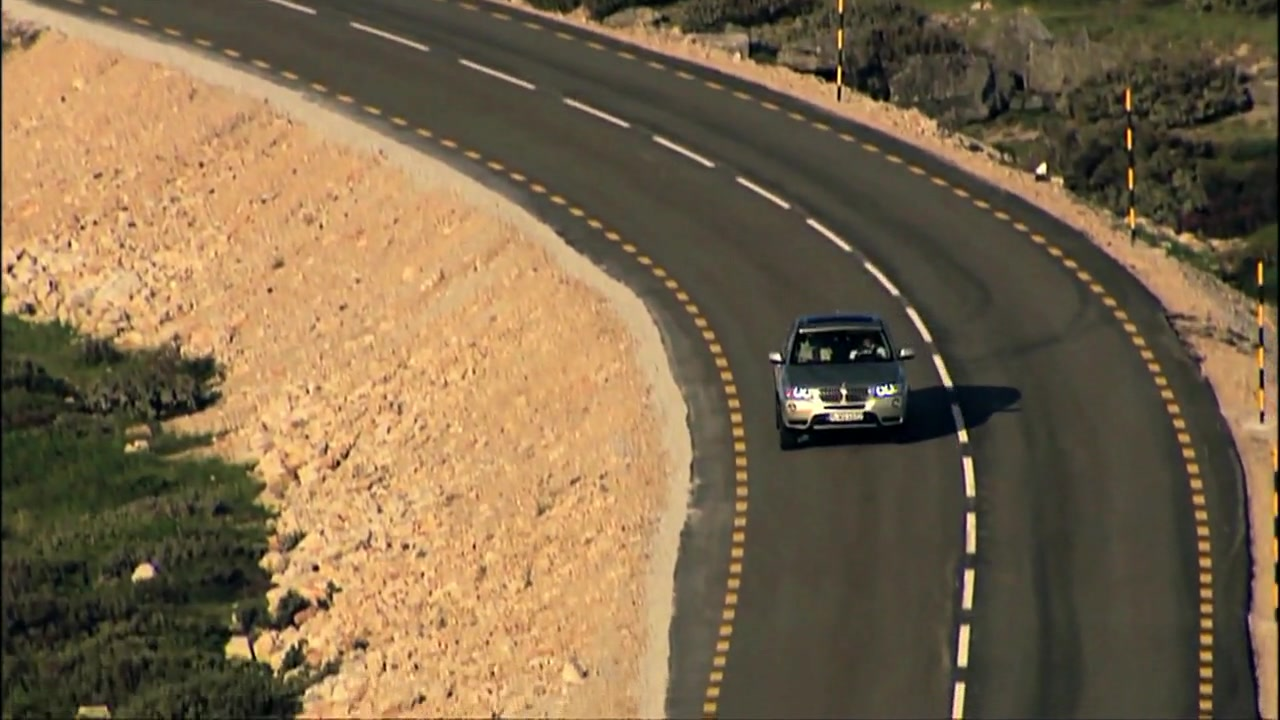car: (772, 312, 922, 449)
